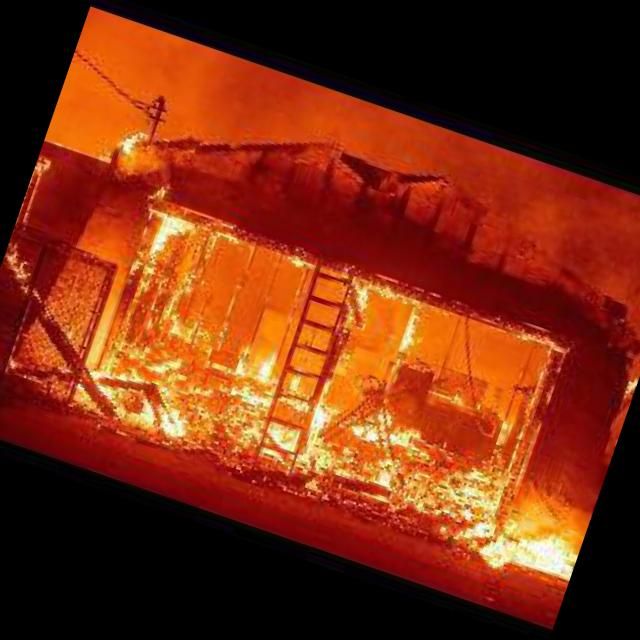fire: (79, 290, 529, 557), (330, 268, 435, 356), (120, 190, 198, 300), (484, 508, 584, 588), (205, 214, 311, 274), (92, 111, 146, 175), (0, 235, 51, 300), (392, 300, 431, 361), (617, 345, 640, 401)
